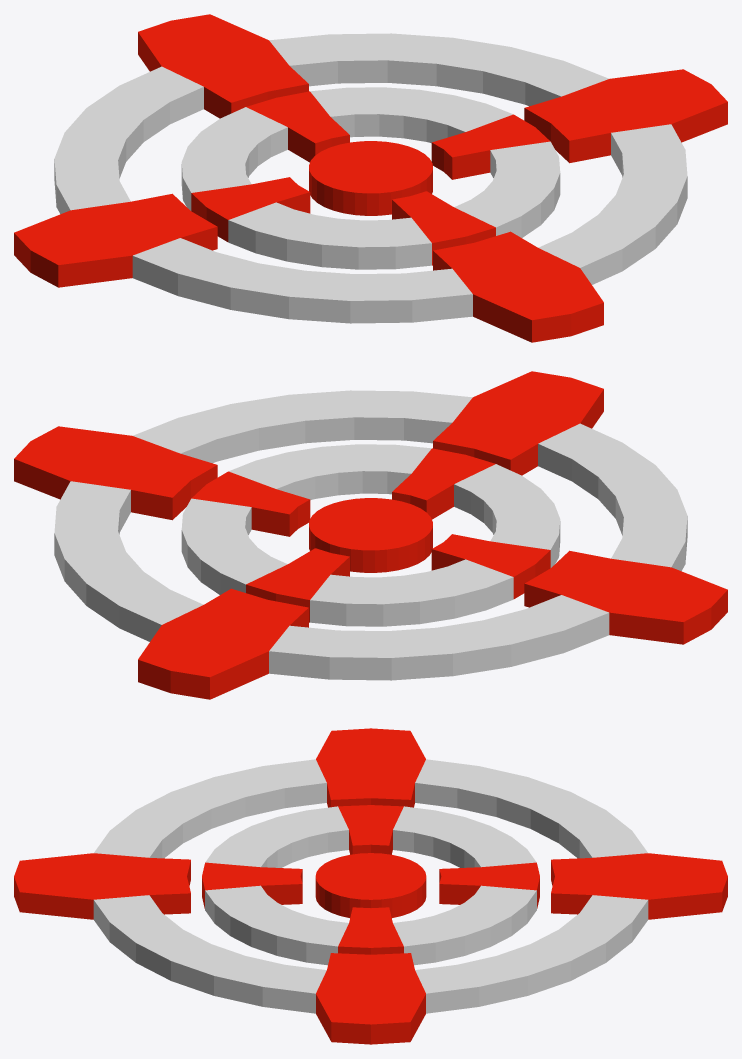
File: target.fbx
The picture shows the model from 3 angles, top to bottom: view 1: azimuth 30°, elevation 25°; view 2: azimuth 150°, elevation 25°; view 3: azimuth 270°, elevation 25°; orthographic projection. The views are drawn at different scales.
Visible parts, largest first — view 1: target; view 2: target; view 3: target.
Part boxes in pixels (x1,y1,x2,y2): target: [14, 14, 727, 342]; target: [14, 371, 727, 699]; target: [14, 728, 727, 1044].
Bounding box in the file's own units: 872 × 27.52 × 888.
